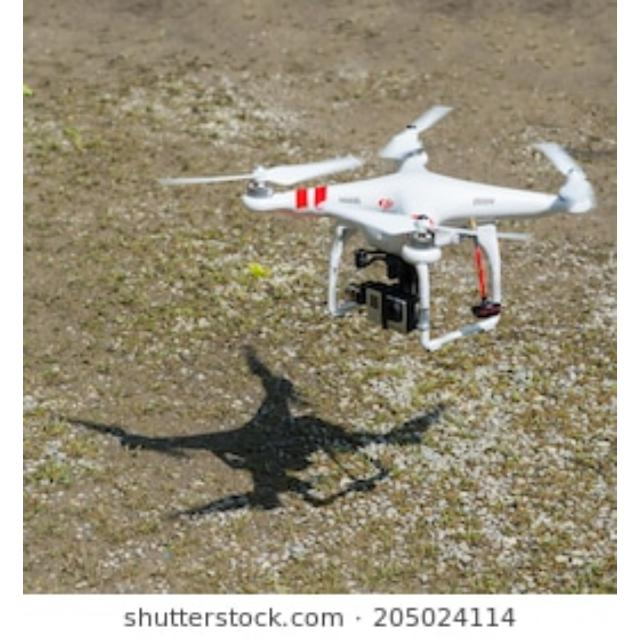Drones: (251, 104, 595, 338)
